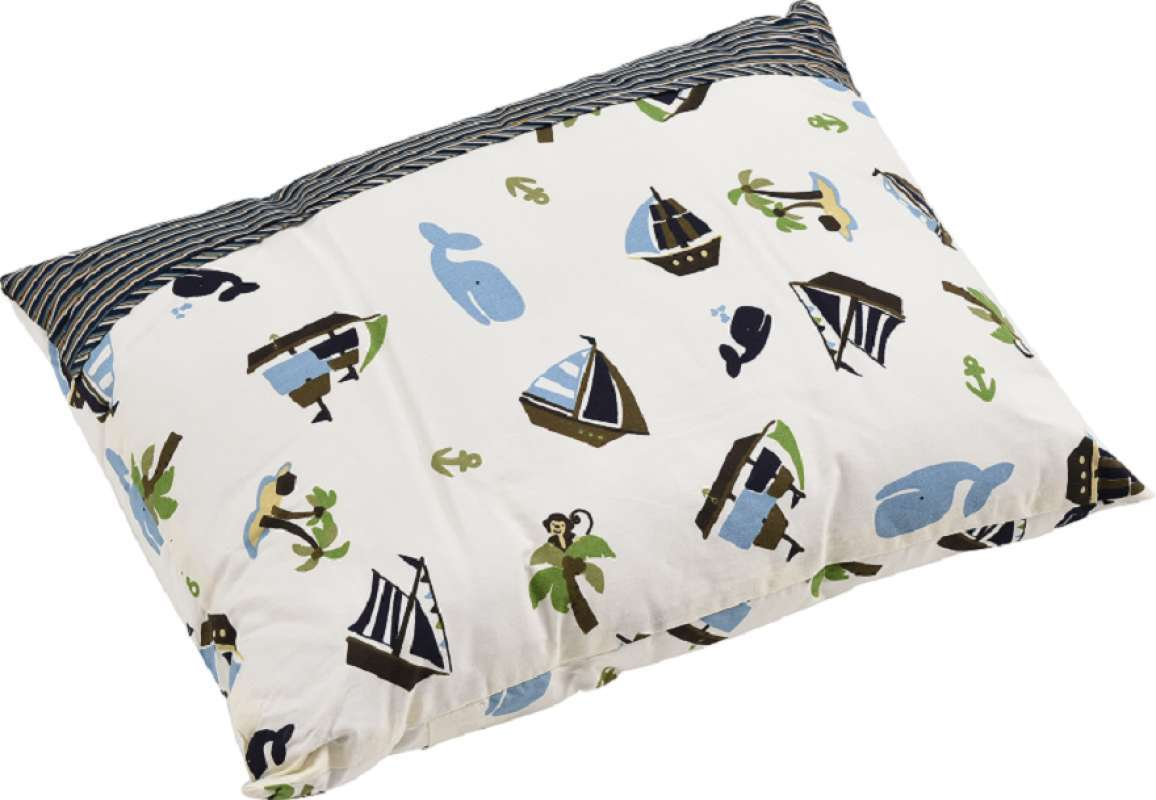bantal: (1, 19, 1156, 800)
